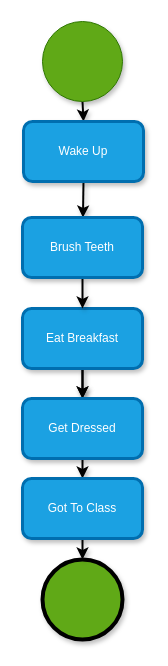
The diagram is 168 pixels wide and 666 high, and some of its shapes have lost their labels. Each missing label, with the centre of its shape:
"End" goes at (x=83, y=600).
"Start" goes at (x=83, y=62).
